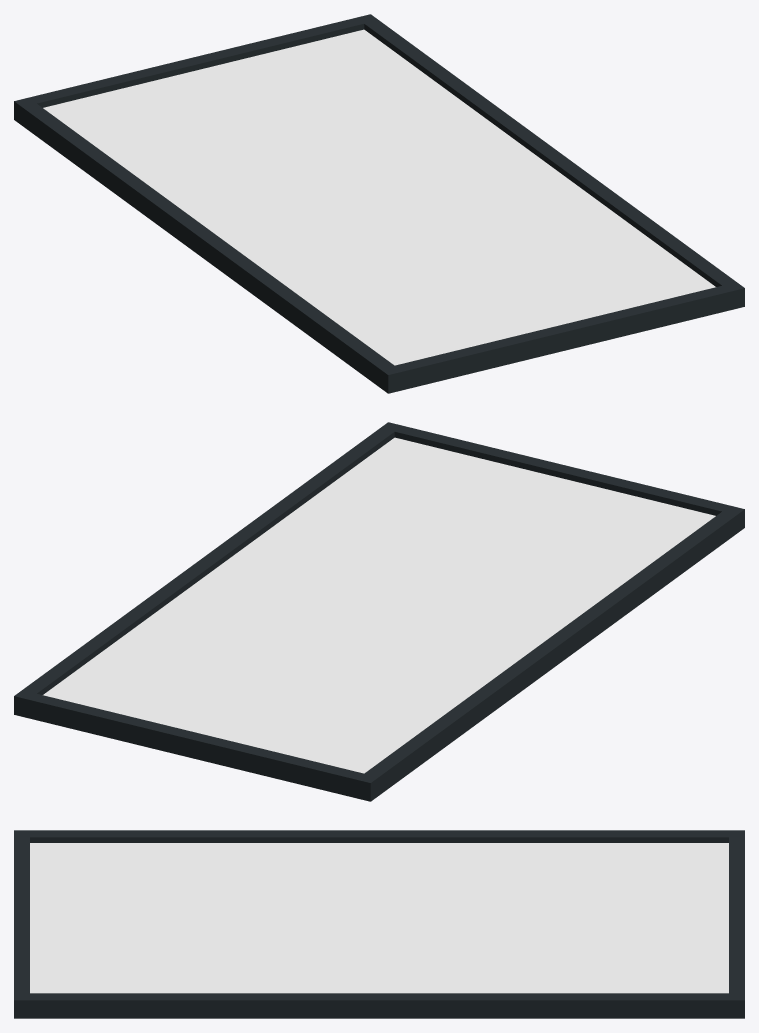
Rendered from whiteboard.fbx.
3 renders of one model, top to bottom at view 1: azimuth 30°, elevation 25°; view 2: azimuth 150°, elevation 25°; view 3: azimuth 270°, elevation 25°, orthographic. The views are drawn at different scales.
Parts seen in each view (by area): view 1: Cube; view 2: Cube; view 3: Cube.
Boxes of the visible parts, x1=… form: Cube: x1=14, y1=14, x2=744, y2=393; Cube: x1=14, y1=422, x2=744, y2=801; Cube: x1=14, y1=830, x2=744, y2=1018.
Size of the model in its own units: 400 by 20 by 727.
